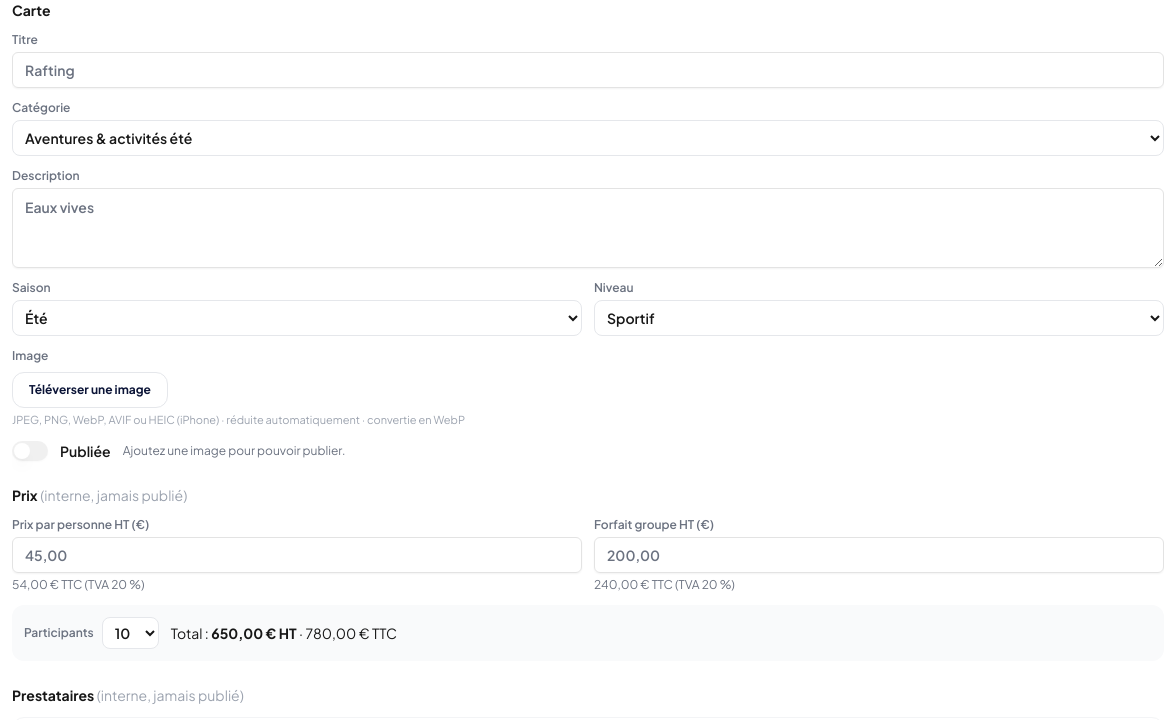
it: spec 097 AC-05 — prix internes et simulateur › refuse un montant invalide avec une erreur en ligne, sans requête
This screenshot has width=1176, height=720.
Replace the text in the field labelled "Prix par personne HT (€) 54,00 € TTC (TVA 20 %)" with "45,555" at (297, 554), box [12,536,582,572]
(page scrolled)
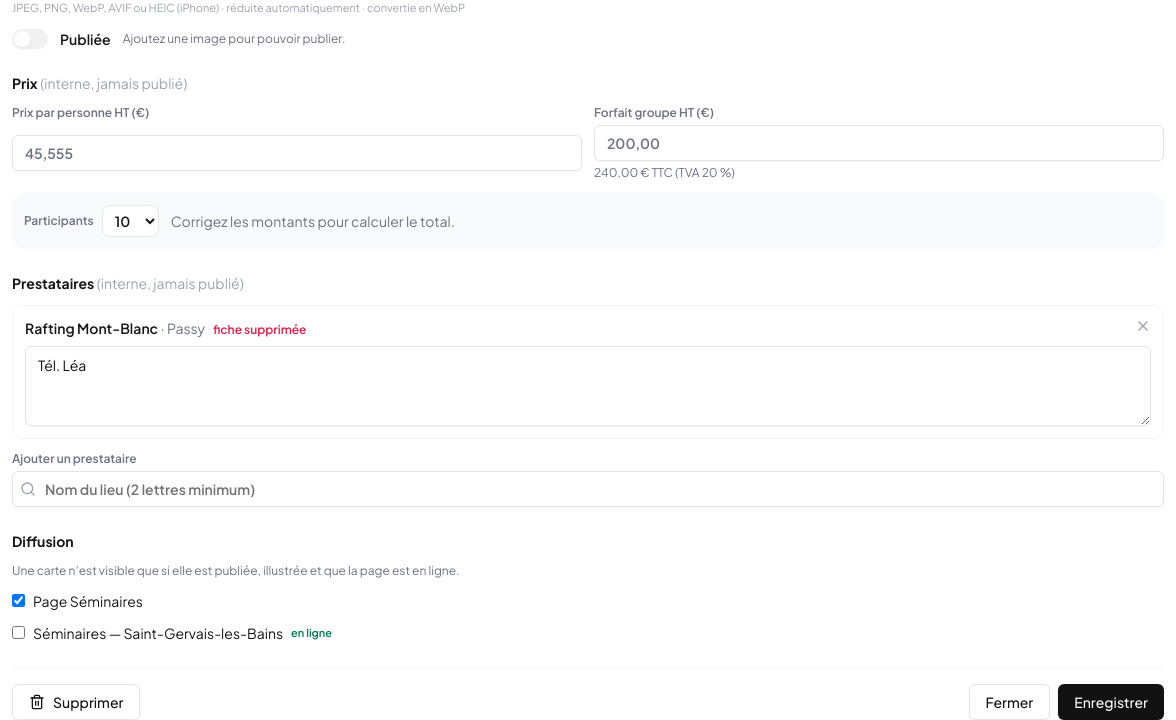
Click the button "Enregistrer" at (1111, 702), box [1058,684,1164,719]
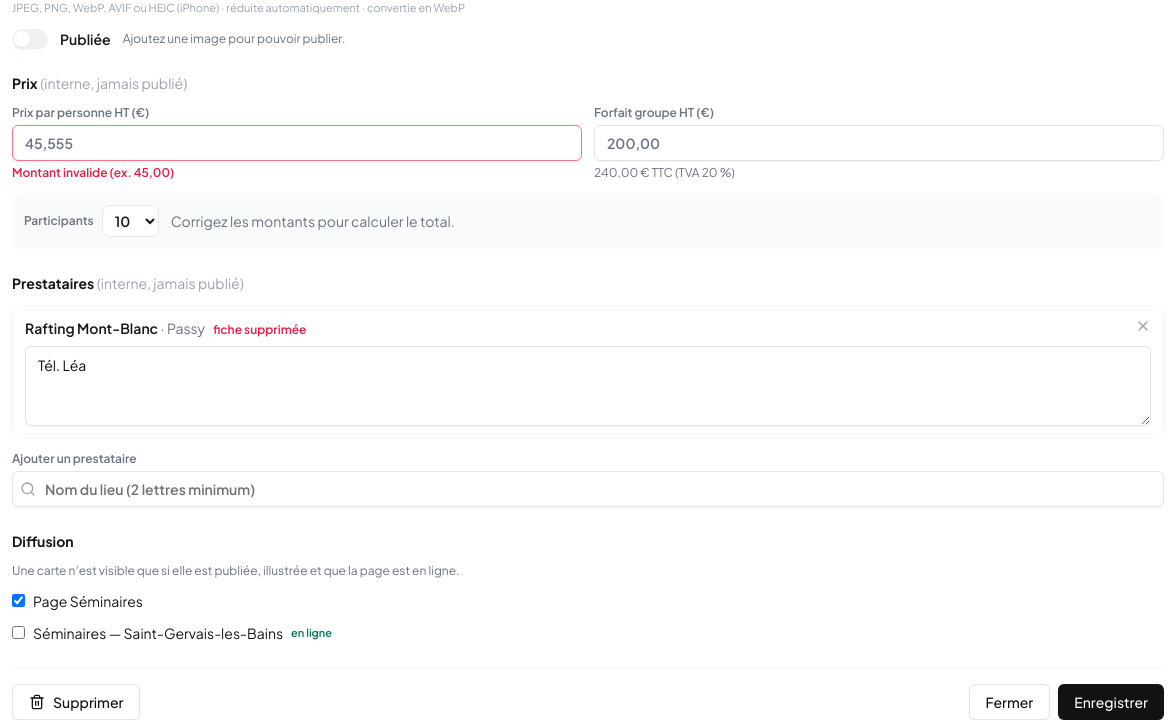
Check: the message shows "Montant invalide", box [12,164,174,180]
